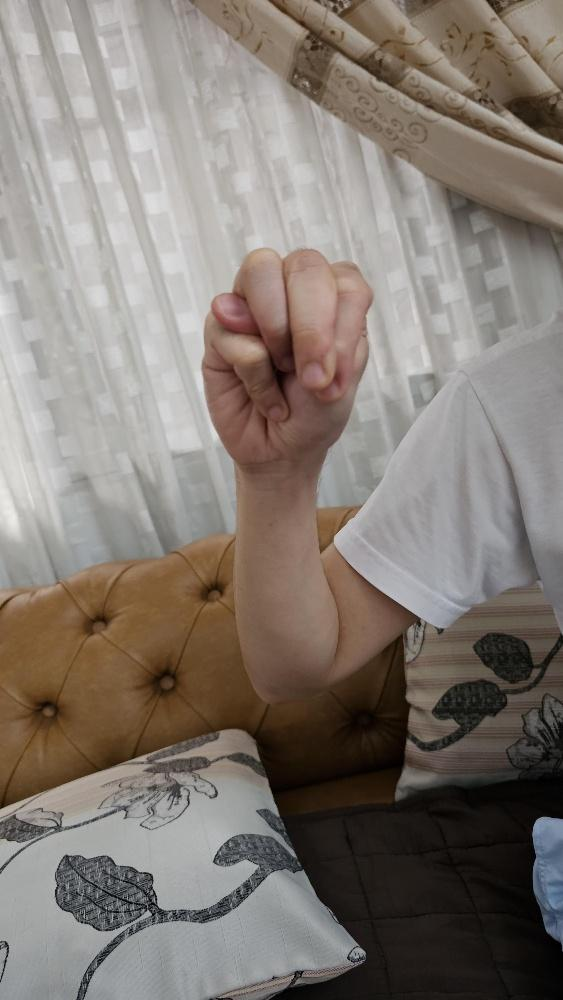m: (196, 244, 375, 465)
